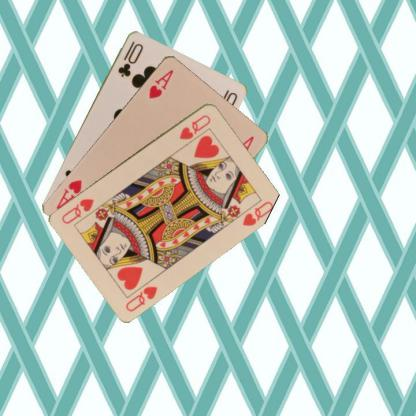10c: (115, 38, 144, 79)
Ah: (146, 66, 175, 100)
Qh: (122, 282, 159, 312), (177, 111, 212, 141)
